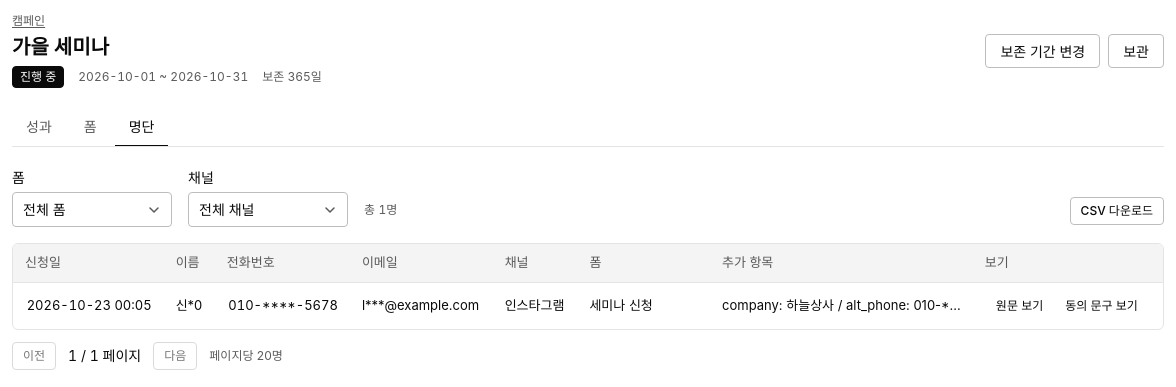
원문 보기 › 추가 항목의 가려진 연락처는 원문 보기에서 extraContacts 원문으로 바뀐다
Expected: the text "company: 하늘상사 / alt_phone: 010-****-8888" is shown, [710,282,973,328]
Click the button "원문 보기".
click(1020, 306)  # box [985,292,1054,320]
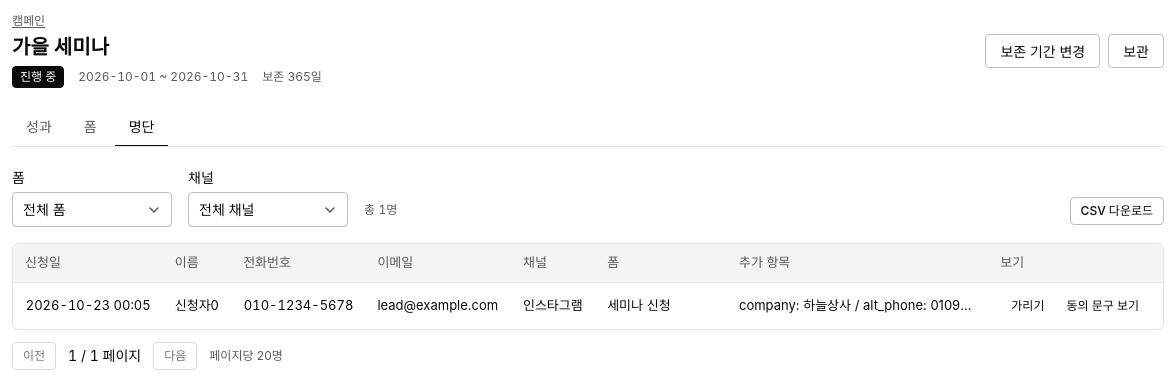
Expected: the text "company: 하늘상사 / alt_phone: 01099998888" is shown, [727,282,988,328]
Click the button "가리기".
click(1028, 306)  # box [1000,292,1055,320]
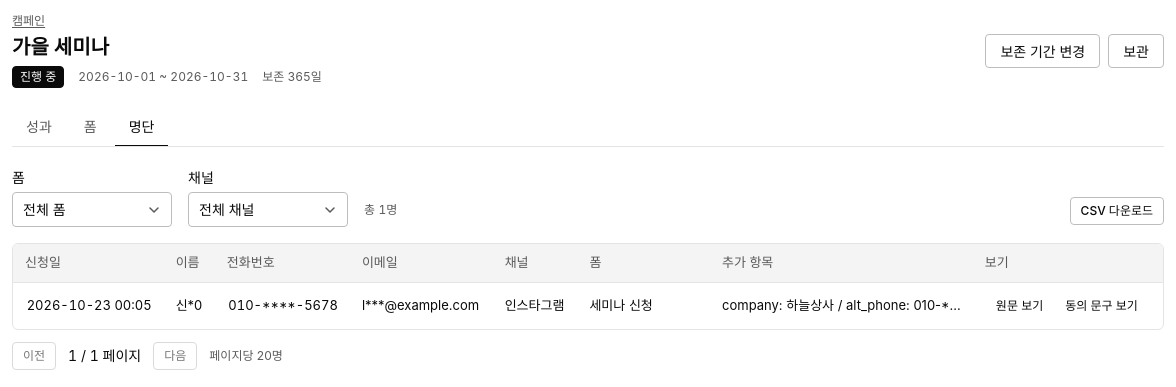
Expected: the text "company: 하늘상사 / alt_phone: 010-****-8888" is shown, [710,282,973,328]
